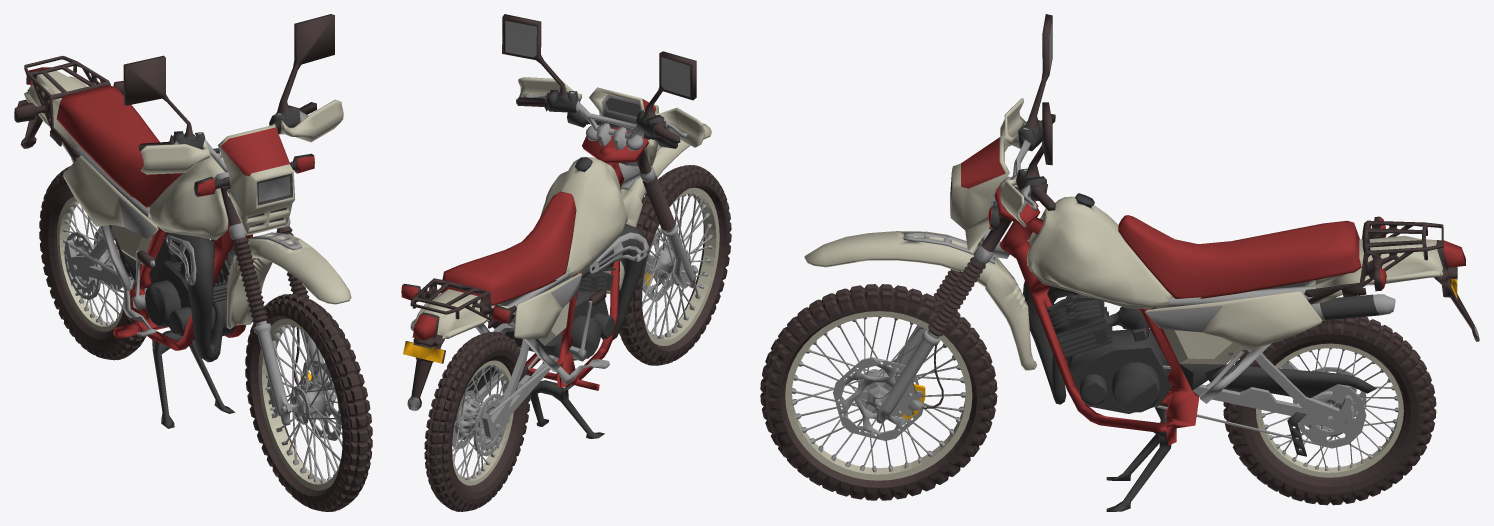
The model's file is veicolo_moto_enduro.glb.
3 views of the same model, side by side, from view 1: azimuth 30°, elevation 25°; view 2: azimuth 150°, elevation 25°; view 3: azimuth 270°, elevation 25° (orthographic). The views are drawn at different scales.
Visible parts, largest first — view 1: sb_modello; view 2: sb_modello; view 3: sb_modello.
Part boxes in pixels (x1,y1,x2,y2): sb_modello: (14, 14, 372, 511); sb_modello: (401, 14, 731, 511); sb_modello: (760, 14, 1479, 511).
Bounding box in the file's own units: 3.93 × 7.38 × 11.03.
